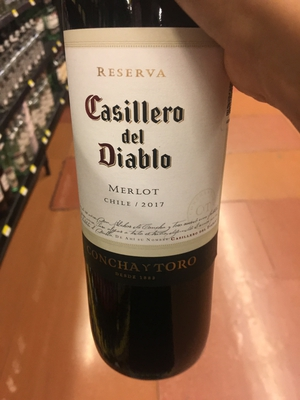casillero del diablo merlot: (56, 6, 245, 361)
